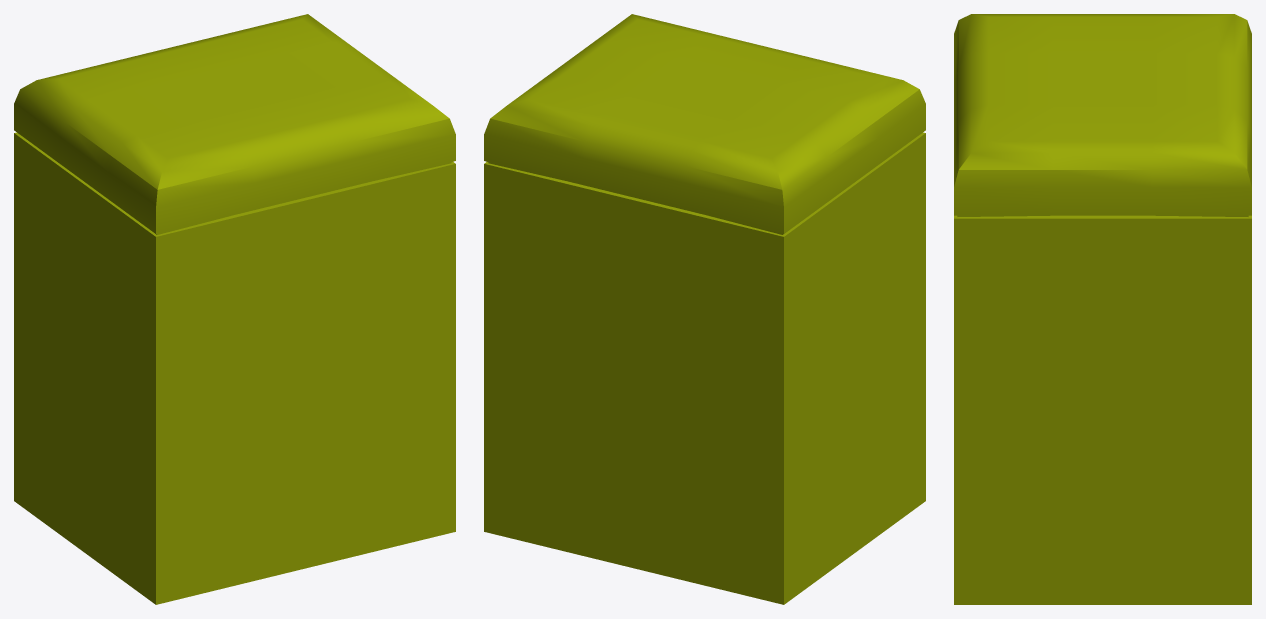
The model's file is hamper.fbx.
3 views of the same model, side by side, from view 1: azimuth 30°, elevation 25°; view 2: azimuth 150°, elevation 25°; view 3: azimuth 270°, elevation 25° (orthographic). The views are drawn at different scales.
Visible parts, largest first — view 1: pCube1; view 2: pCube1; view 3: pCube1.
Part boxes in pixels (x1=…): pCube1: x1=14, y1=14, x2=455, y2=604; pCube1: x1=484, y1=14, x2=925, y2=604; pCube1: x1=954, y1=14, x2=1251, y2=604.
Size of the model in its own units: 12.26 by 16.7 by 10.05.
